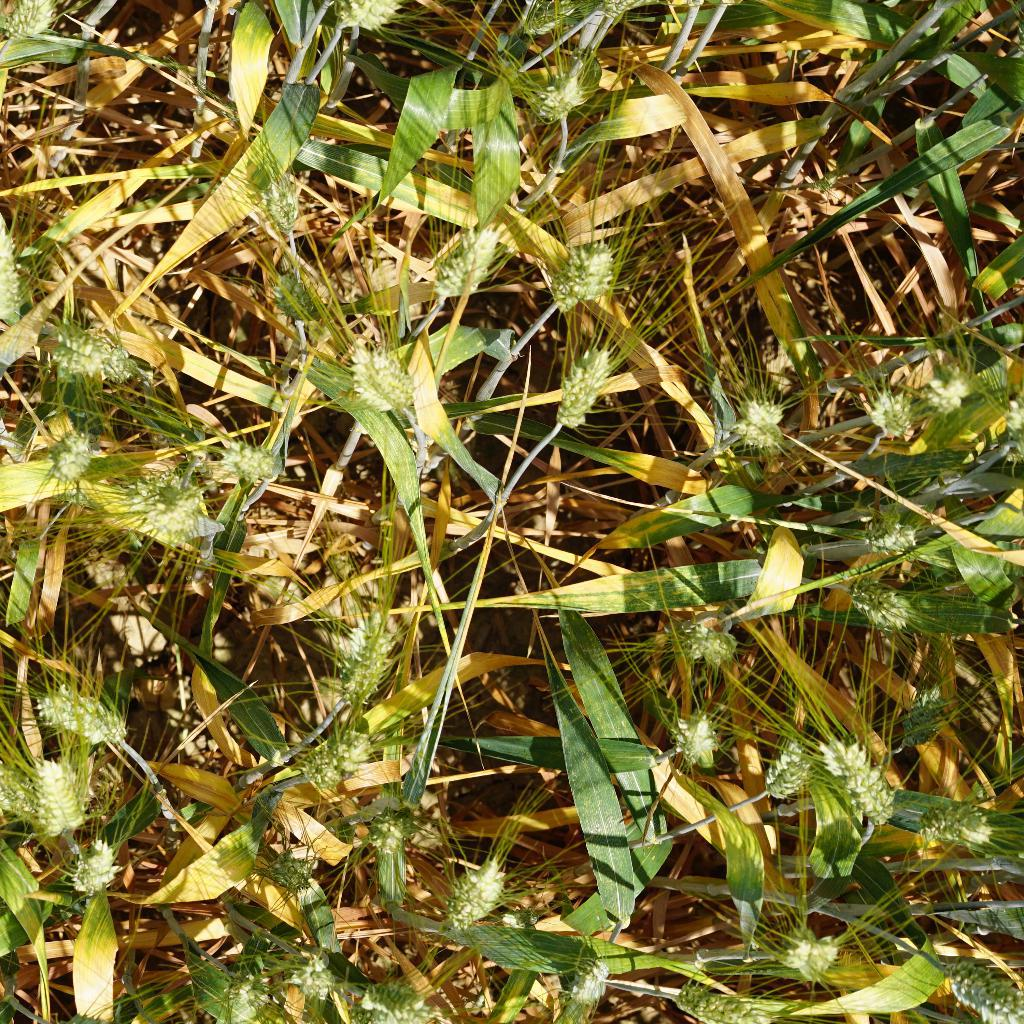0-0: (811, 725, 907, 828), (317, 606, 413, 709), (344, 335, 429, 428), (432, 843, 516, 935), (291, 718, 380, 804), (30, 679, 134, 752), (542, 238, 626, 322), (422, 202, 497, 296), (511, 53, 602, 130), (51, 310, 134, 392), (941, 945, 1024, 1024), (245, 146, 316, 231), (840, 568, 927, 636), (121, 464, 201, 536), (651, 699, 733, 765), (660, 975, 768, 1024), (886, 680, 961, 750), (770, 911, 840, 983), (34, 748, 96, 828), (750, 737, 817, 811), (908, 798, 993, 855), (556, 340, 609, 430), (667, 610, 744, 671), (864, 500, 931, 570), (261, 249, 318, 331), (220, 434, 290, 496), (869, 370, 933, 437), (352, 801, 423, 861), (277, 941, 335, 1011), (915, 366, 976, 428), (733, 385, 792, 449), (251, 844, 319, 897), (0, 0, 68, 52), (355, 980, 434, 1024), (73, 837, 129, 899), (557, 956, 618, 1010), (212, 965, 277, 1015), (0, 223, 29, 329), (514, 0, 589, 40), (344, 0, 414, 41), (41, 428, 94, 482), (0, 750, 40, 821), (602, 0, 681, 29), (938, 1003, 1020, 1024), (792, 163, 843, 195), (126, 1004, 200, 1024), (47, 1008, 124, 1024), (514, 902, 541, 930)
